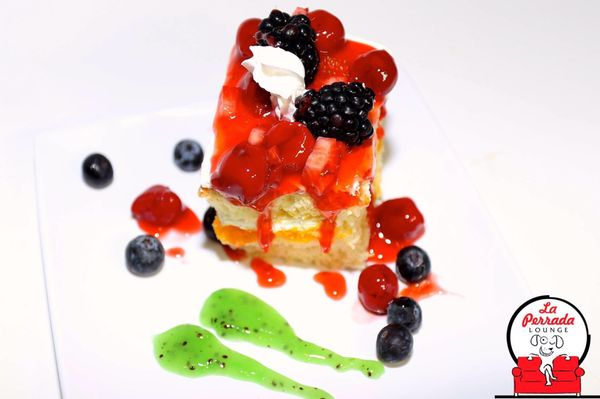sushi: (201, 7, 399, 269)
